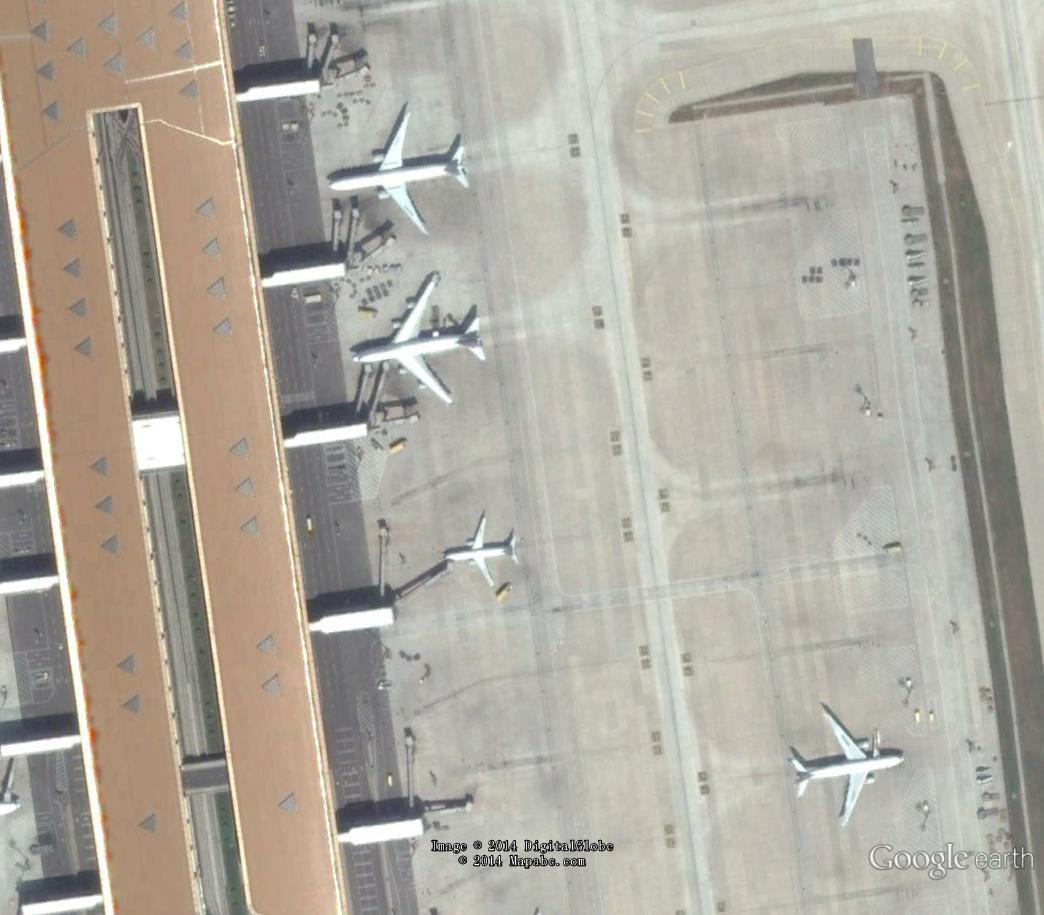aircraft: (321, 102, 474, 238), (348, 268, 489, 411), (786, 703, 910, 831), (441, 513, 525, 594)
